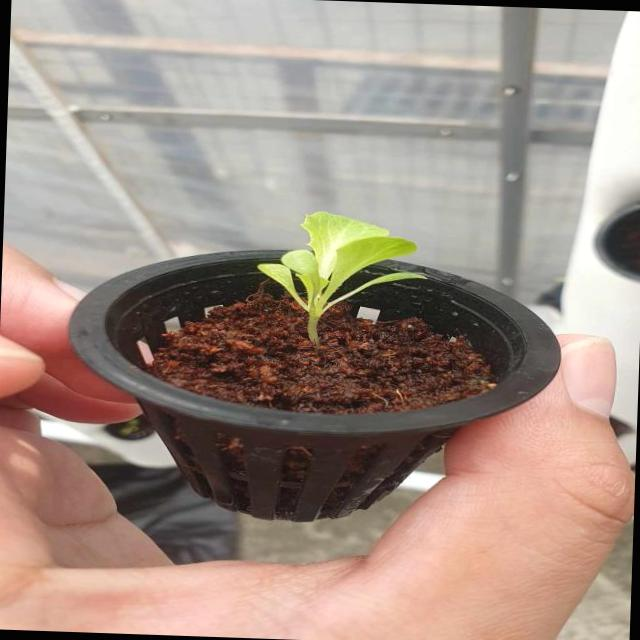Lettuce-Not-Ready-to-Harvest: (256, 211, 426, 346)
